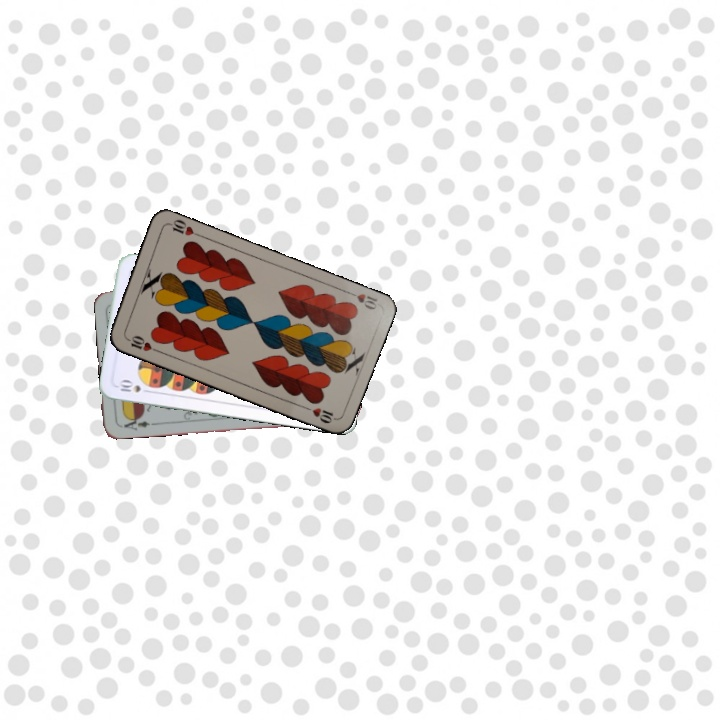EA: (120, 413, 157, 433)
H10: (342, 287, 380, 312), (122, 331, 161, 354)
S10: (113, 377, 154, 395)
